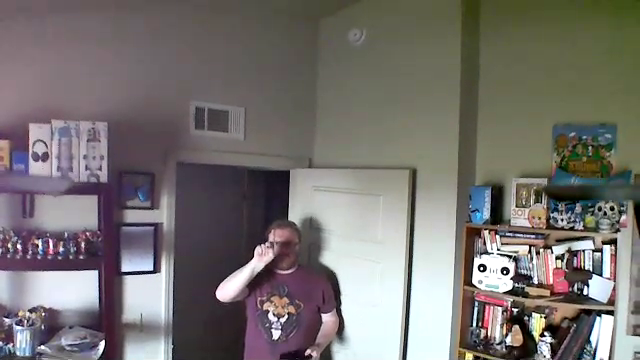up: (251, 229, 279, 264)
